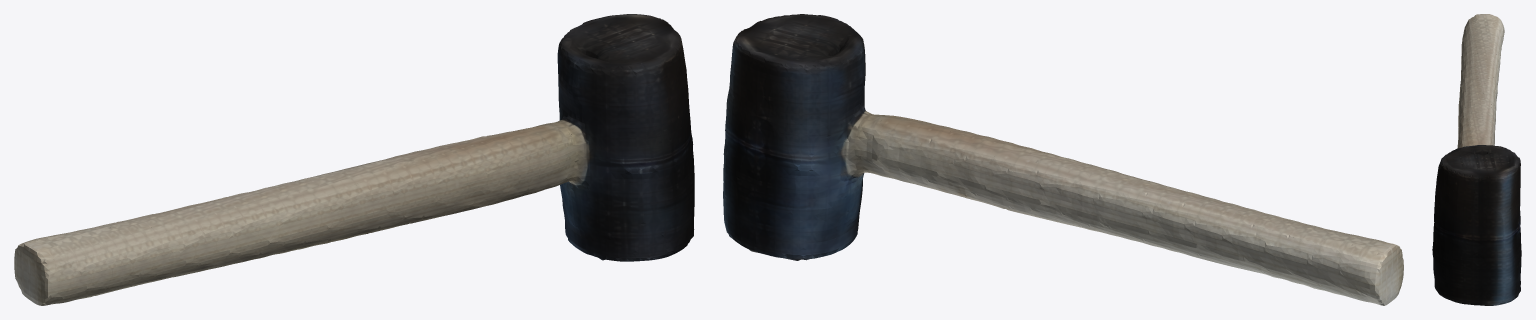
File: mallet_hammer.glb
3 views of the same model, side by side, from view 1: azimuth 30°, elevation 25°; view 2: azimuth 150°, elevation 25°; view 3: azimuth 270°, elevation 25° (orthographic). The views are drawn at different scales.
Visible parts, largest first — view 1: mallet_hammer_visual0_0; view 2: mallet_hammer_visual0_0; view 3: mallet_hammer_visual0_0.
Part boxes in pixels (x1=…): mallet_hammer_visual0_0: x1=14, y1=14, x2=694, y2=305; mallet_hammer_visual0_0: x1=723, y1=14, x2=1403, y2=305; mallet_hammer_visual0_0: x1=1432, y1=14, x2=1521, y2=305.
Bounding box in the file's own units: 0.2972 × 0.0869 × 0.0536.
Materials: 1 (1 with a texture image).
